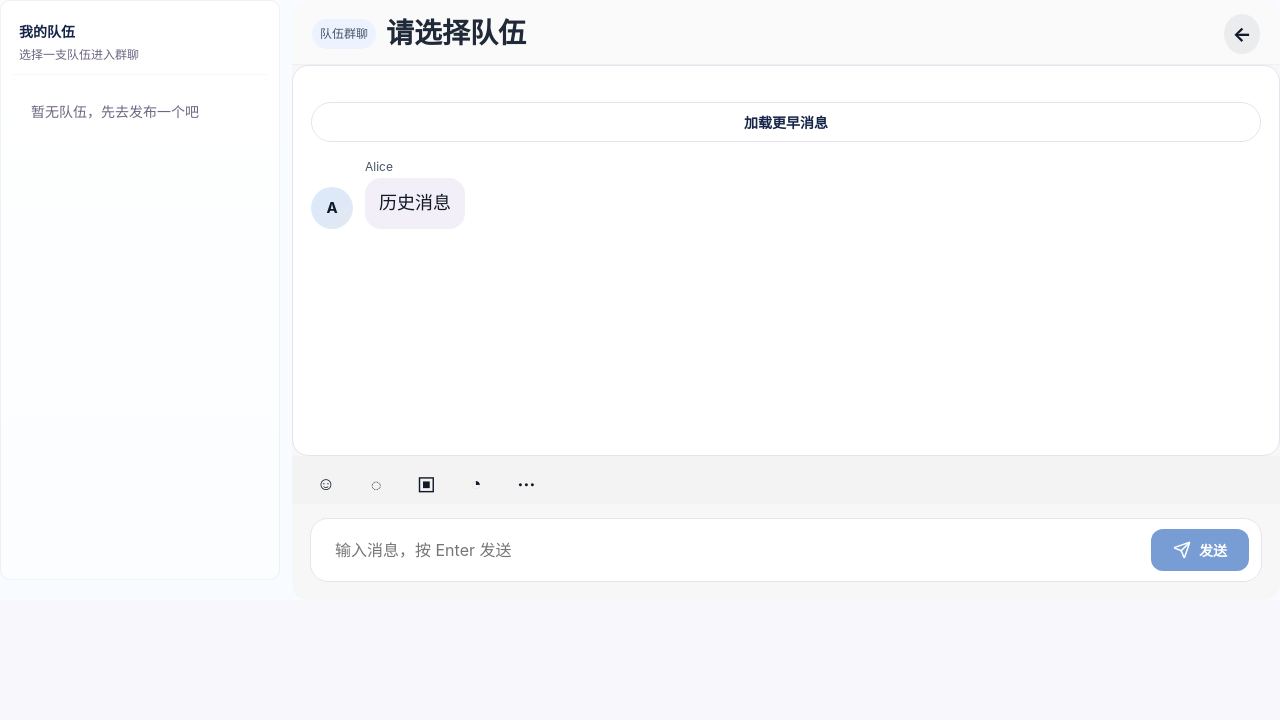
Test: ChatPage › connects to the team room and sends real-time messages
The image size is (1280, 720).
Type "今晚同步接口" into the field named "群聊消息". click: (731, 550)
box: [323,529,1139,571]
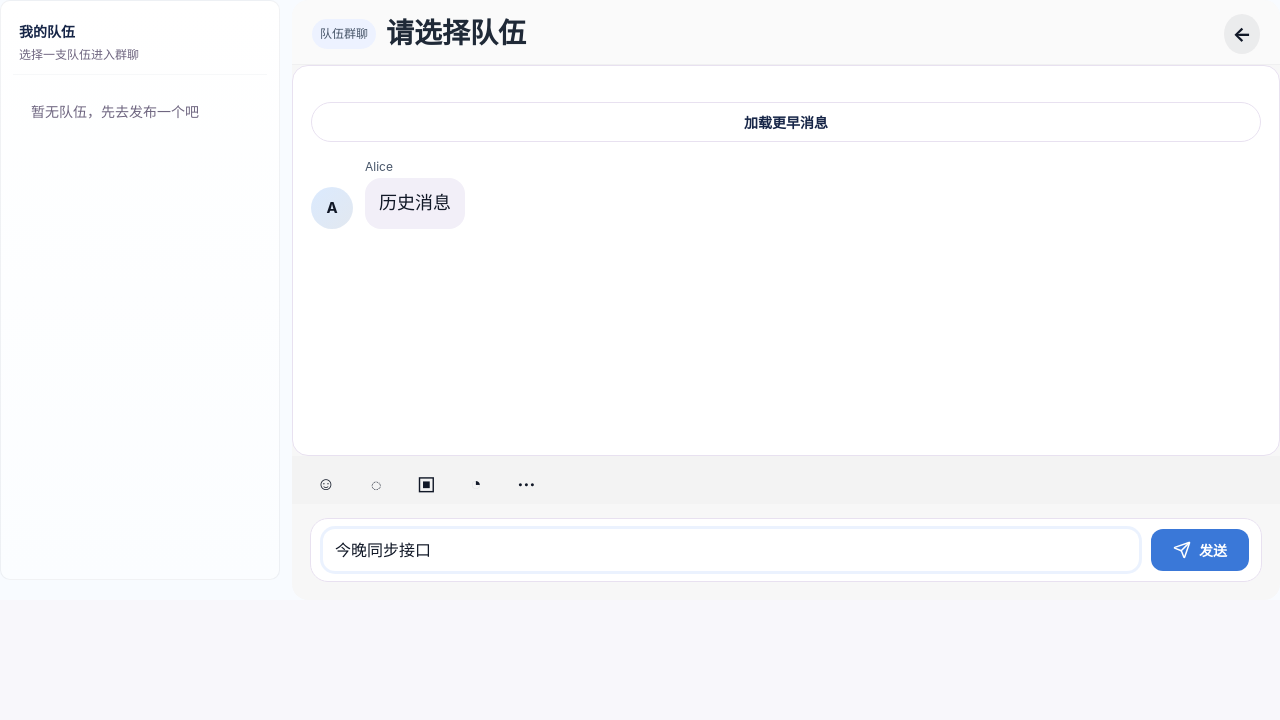
Click the button with aria-label "发送消息". click: (1200, 550)
box: [1151,529,1249,571]
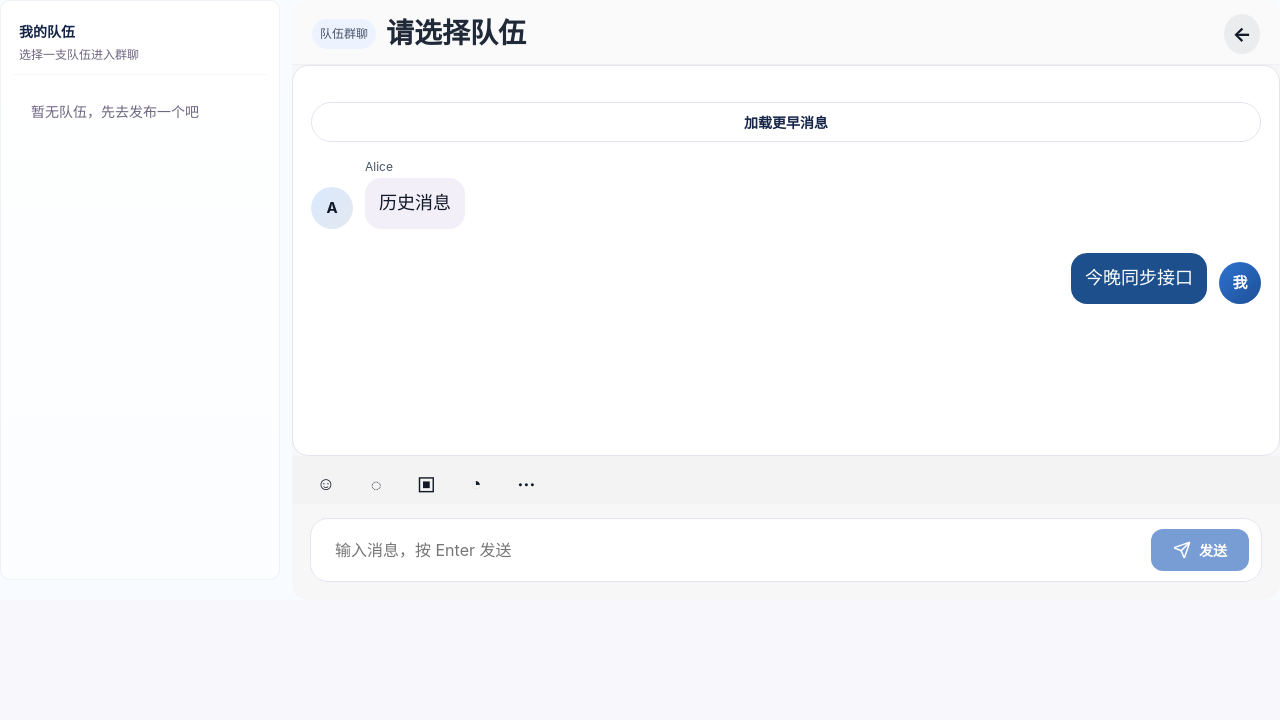
Expected: the field named "群聊消息" is empty, [323,529,1139,571]
Expected: the text "今晚同步接口" is shown, [1071,253,1207,304]
